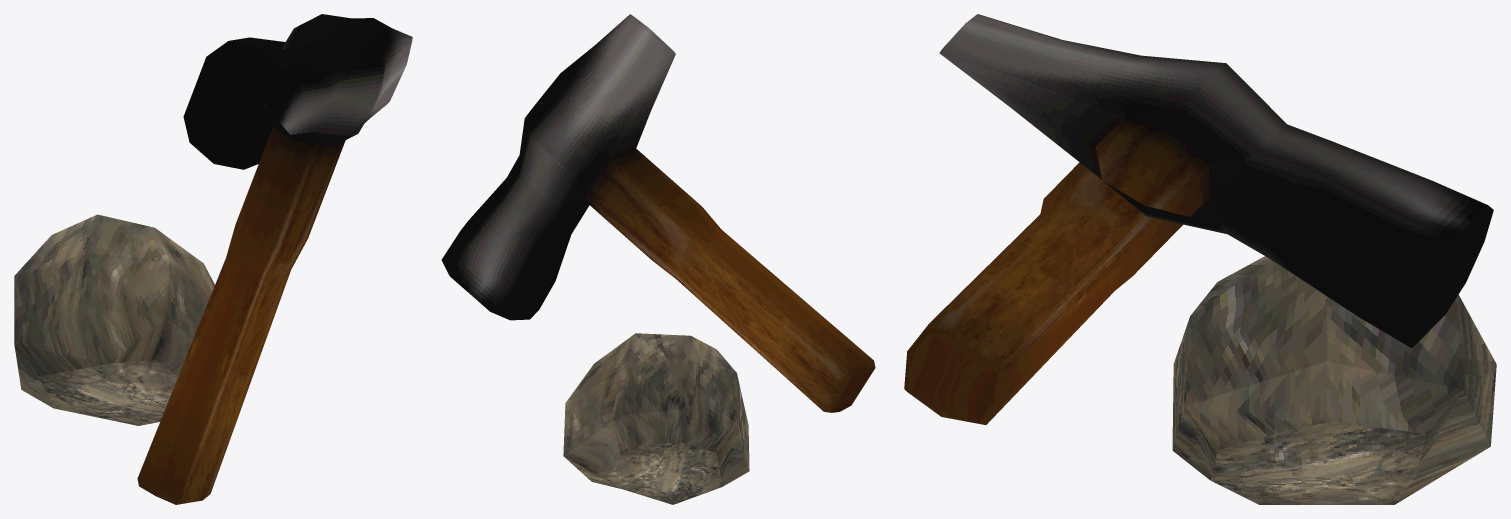
Rendered from ps2_save-icons_kanuchishirokitsubasanoshou.glb.
The picture shows the model from 3 angles, left to right: view 1: azimuth 30°, elevation 25°; view 2: azimuth 150°, elevation 25°; view 3: azimuth 270°, elevation 25°; orthographic projection. The views are drawn at different scales.
Parts seen in each view (by area): view 1: white01.ico; view 2: white01.ico; view 3: white01.ico.
Boxes of the visible parts, left/top/right/bottom form: white01.ico: left=14, top=14, right=412, bottom=504; white01.ico: left=441, top=14, right=875, bottom=504; white01.ico: left=904, top=14, right=1496, bottom=504.
Bounding box in the file's own units: 2.38 × 2.95 × 2.76.
Materials: 1 (1 with a texture image).
